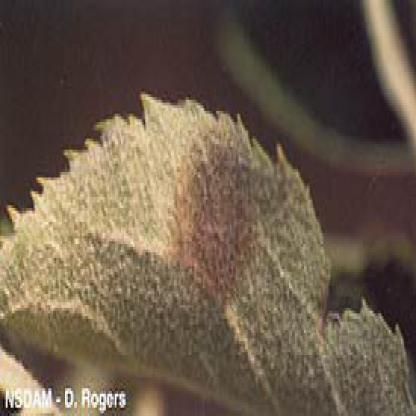apple scab leaf: (3, 53, 414, 408)
